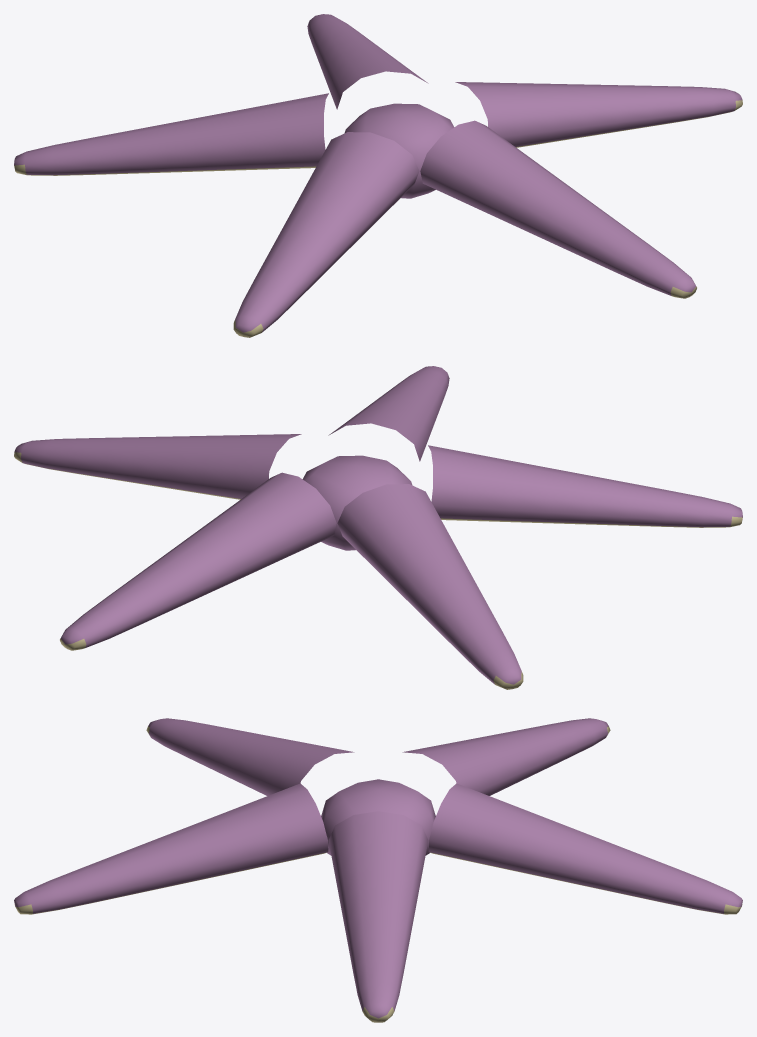
File: ochre_star.glb
3 renders of one model, top to bottom at view 1: azimuth 30°, elevation 25°; view 2: azimuth 150°, elevation 25°; view 3: azimuth 270°, elevation 25°, orthographic. The views are drawn at different scales.
Parts seen in each view (by area): view 1: ochre_star; view 2: ochre_star; view 3: ochre_star.
Part boxes in pixels (x1,y1,x2,y2): ochre_star: (14,14,742,337); ochre_star: (14,366,742,689); ochre_star: (14,718,742,1022).
Size of the model in its own units: 0.2734 by 0.0367 by 0.2867.
